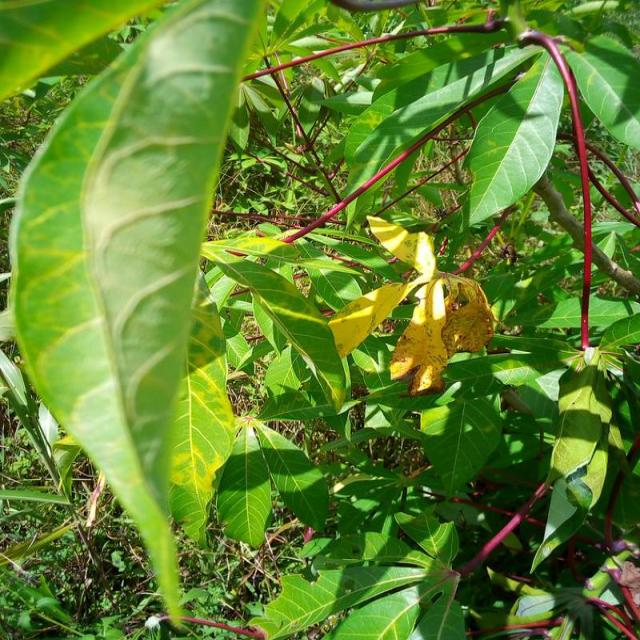cassava leaf: (4, 1, 638, 636), (7, 0, 266, 627)
